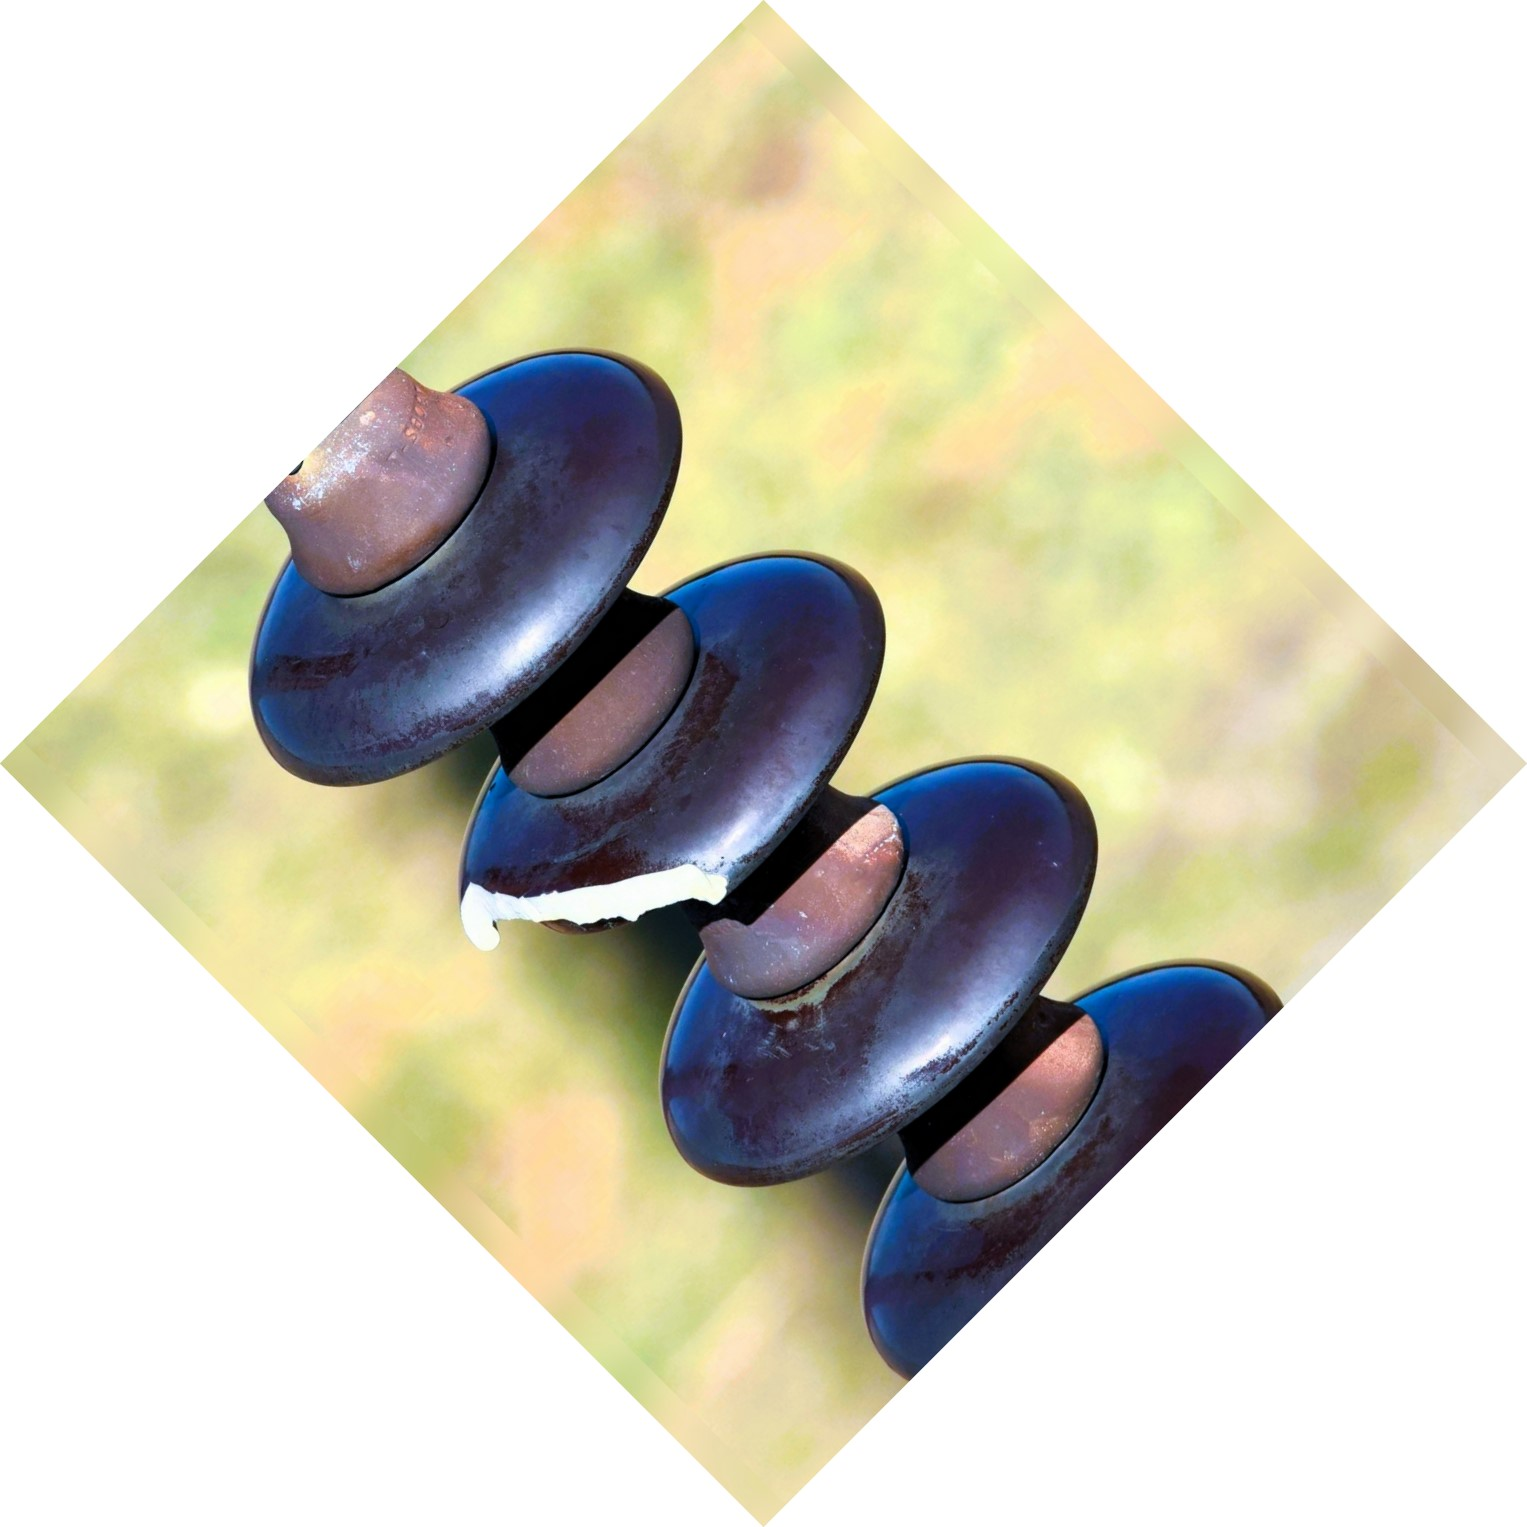insulator breakage: (424, 538, 887, 976)
